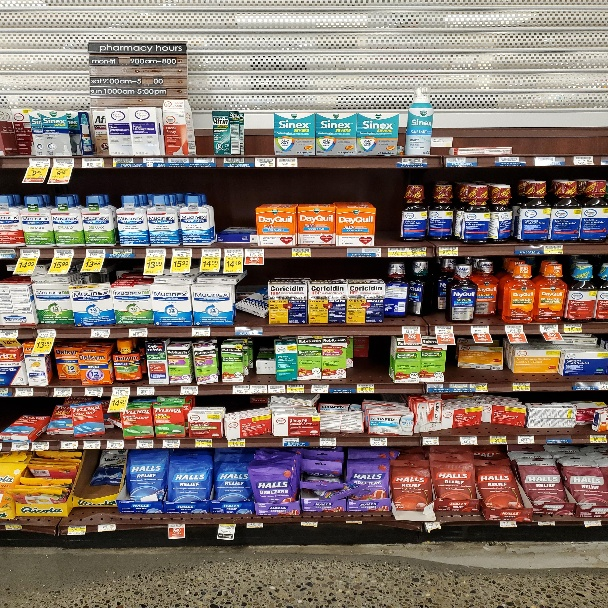All PRICE TAGS: (534, 156, 564, 165), (446, 157, 467, 167), (82, 158, 103, 168), (224, 248, 244, 258), (439, 246, 458, 256), (278, 157, 297, 167), (573, 156, 594, 165), (497, 158, 520, 166), (254, 157, 274, 166), (201, 248, 221, 257), (245, 248, 265, 257), (408, 246, 426, 256), (113, 157, 135, 165), (505, 325, 524, 334), (292, 248, 311, 257), (388, 247, 407, 256), (192, 327, 211, 336), (236, 327, 260, 334), (54, 158, 75, 166), (224, 157, 245, 165), (401, 158, 425, 165), (112, 249, 133, 257), (97, 523, 115, 532), (356, 384, 374, 393), (545, 245, 563, 254), (471, 325, 489, 334), (564, 324, 582, 333), (470, 383, 488, 392), (460, 436, 478, 445), (37, 329, 55, 338), (66, 526, 86, 534), (29, 159, 49, 167), (194, 157, 214, 165), (20, 249, 40, 257), (54, 249, 74, 257), (370, 437, 387, 446), (319, 437, 336, 446), (163, 439, 180, 448), (136, 439, 153, 448), (107, 440, 124, 449), (83, 440, 100, 449), (137, 386, 154, 395), (112, 386, 129, 395), (590, 434, 607, 443), (490, 435, 507, 444), (0, 330, 17, 339), (363, 248, 380, 257), (435, 326, 454, 334), (173, 249, 192, 257), (86, 249, 105, 257), (129, 328, 148, 336), (143, 158, 164, 165), (282, 438, 300, 446), (312, 384, 328, 393), (233, 385, 249, 394), (540, 325, 558, 333), (512, 383, 530, 391), (15, 388, 33, 396), (147, 249, 165, 257), (91, 329, 109, 337), (1, 249, 15, 259), (195, 439, 212, 447), (181, 386, 198, 394), (86, 387, 103, 395), (54, 388, 71, 396), (32, 442, 49, 450), (11, 442, 28, 450), (219, 523, 234, 532), (168, 158, 190, 164), (61, 441, 77, 449), (423, 437, 439, 445), (229, 439, 245, 447), (402, 326, 420, 333), (517, 436, 534, 443), (288, 385, 302, 393), (270, 385, 284, 393), (252, 385, 266, 393), (583, 520, 601, 526), (5, 524, 22, 530), (426, 522, 440, 529), (500, 521, 516, 527), (301, 521, 316, 527), (168, 524, 185, 529), (246, 523, 263, 528), (598, 382, 608, 390), (449, 384, 468, 388), (538, 521, 553, 525)
